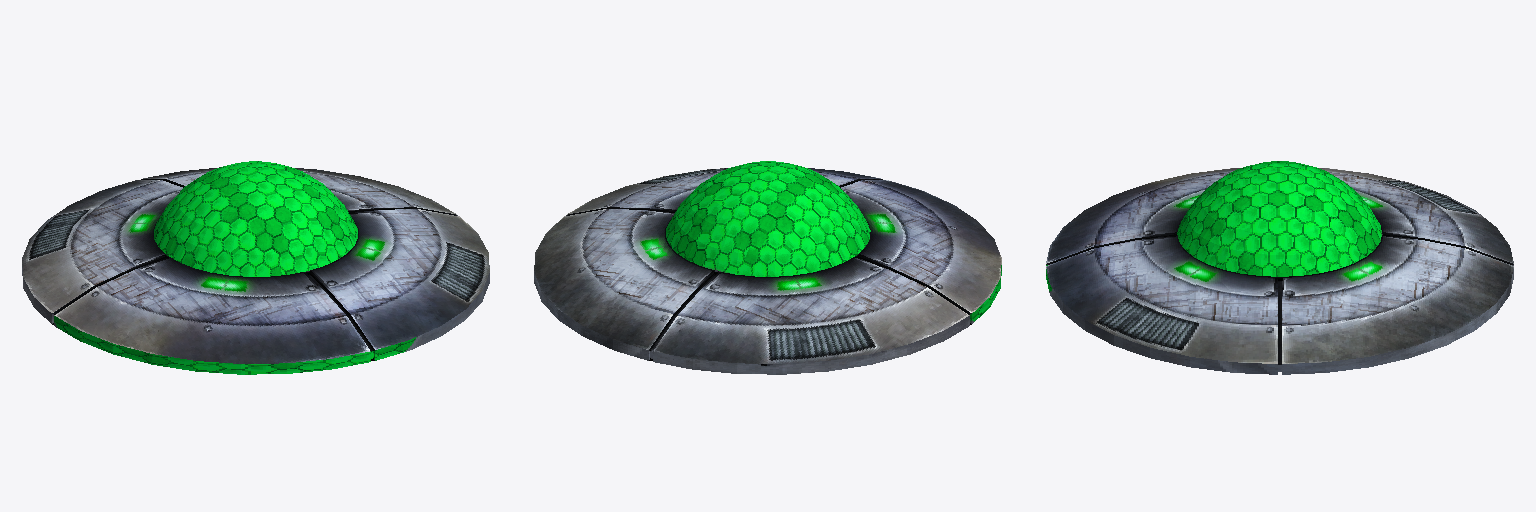
The picture shows the model from 3 angles: view 1: azimuth 30°, elevation 25°; view 2: azimuth 150°, elevation 25°; view 3: azimuth 270°, elevation 25°; orthographic projection.
Parts seen in each view (by area): view 1: o_UFO_body; view 2: o_UFO_body; view 3: o_UFO_body.
Part boxes in pixels (left/top/right/bottom): o_UFO_body: left=22, top=161, right=489, bottom=374; o_UFO_body: left=534, top=161, right=1001, bottom=374; o_UFO_body: left=1046, top=161, right=1513, bottom=374.
Bounding box in the file's own units: 3.29 × 1.31 × 3.29.
Materials: 1 (1 with a texture image).